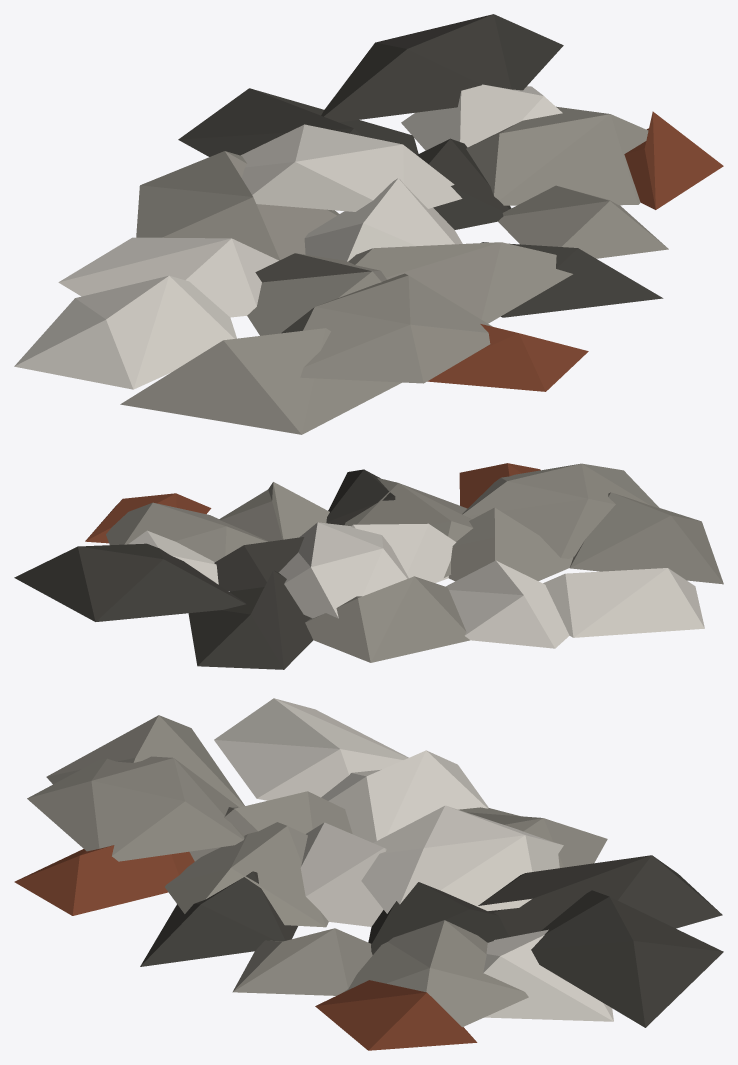
File: shingle-tile-fa005e.glb
The picture shows the model from 3 angles, top to bottom: view 1: azimuth 30°, elevation 25°; view 2: azimuth 150°, elevation 25°; view 3: azimuth 270°, elevation 25°; orthographic projection. The views are drawn at different scales.
Visible parts, largest first — view 1: crest-heap; view 2: crest-heap; view 3: crest-heap.
Part boxes in pixels (x1,y1,x2,y2): crest-heap: (14, 14, 723, 434); crest-heap: (14, 463, 723, 669); crest-heap: (14, 698, 723, 1050).
Size of what is drawn, in the model's own units: 0.6863 by 0.0638 by 0.6032.
